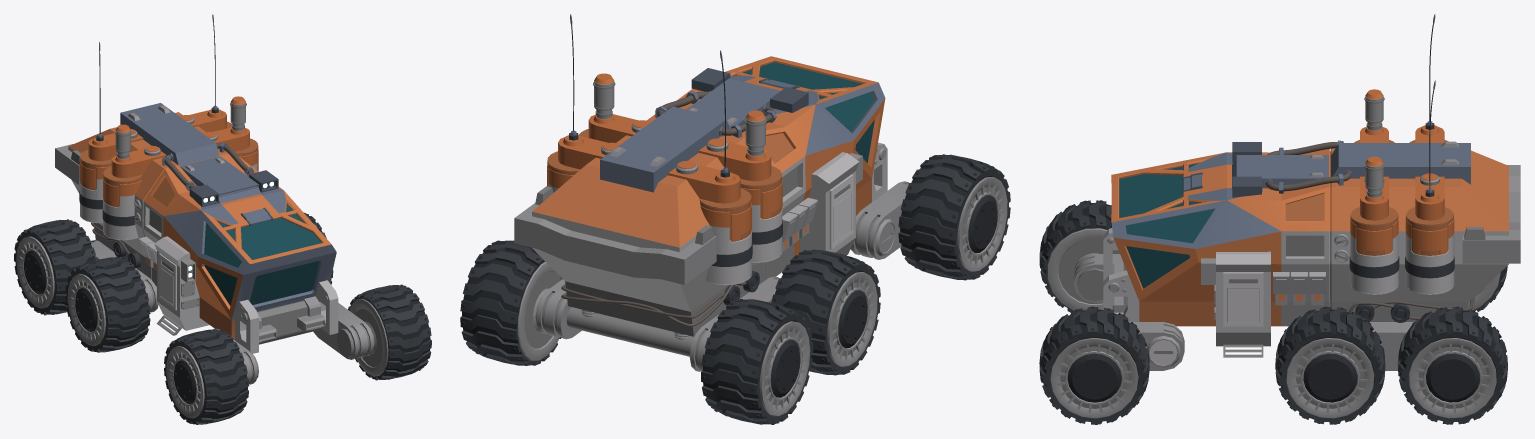
Rendered from rover.gltf.
3 views of the same model, side by side, from view 1: azimuth 30°, elevation 25°; view 2: azimuth 150°, elevation 25°; view 3: azimuth 270°, elevation 25° (orthographic). The views are drawn at different scales.
Visible parts, largest first — view 1: Cube.045, Cylinder.248, Cylinder.230, Cylinder.122, Cylinder.266, Cube.040, Cube.042, Cube.049, Cylinder.127, Cube.039, Cylinder.173, Cylinder.134 (+20 smaller); view 2: Cube.045, Cylinder.266, Cylinder.230, Cylinder.202, Cube.041, Cylinder.248, Cube.040, Cube.039, Cylinder.137, Cylinder.124, Cylinder.135, Cylinder.134 (+24 smaller); view 3: Cube.045, Cylinder.130, Cylinder.122, Cylinder.202, Cube.040, Cylinder.177, Cylinder.204, Cylinder.174, Cube.039, Cylinder.231, Cube.041, Cube.042 (+29 smaller).
Part boxes in pixels (x1,y1,x2,y2): Cube.045: (68,112,336,340); Cylinder.248: (65,257,150,352); Cylinder.230: (164,329,249,424); Cylinder.122: (348,285,431,379); Cylinder.266: (14,220,95,314); Cube.040: (120,103,219,165); Cube.042: (180,156,260,203); Cube.049: (235,280,338,353); Cylinder.127: (212,303,373,384); Cube.039: (154,224,316,330); Cylinder.173: (349,298,388,376); Cylinder.134: (111,127,249,178); Cube.045: (532,56,885,336); Cylinder.266: (701,299,813,424); Cylinder.230: (898,154,1010,279); Cylinder.202: (460,240,561,365); Cube.041: (514,203,716,284); Cylinder.248: (771,250,880,374); Cube.040: (600,106,729,192); Cube.039: (800,152,859,255); Cylinder.137: (536,276,778,371); Cylinder.124: (566,307,694,356); Cylinder.135: (558,136,740,203); Cylinder.134: (588,114,771,181); Cube.045: (1111,148,1508,326); Cylinder.130: (1275,307,1385,424); Cylinder.122: (1039,307,1149,424); Cylinder.202: (1397,307,1507,424); Cube.040: (1331,143,1470,184); Cylinder.177: (1286,338,1374,418); Cylinder.204: (1409,338,1496,418); Cylinder.174: (1050,338,1138,418); Cube.039: (1216,251,1270,346); Cylinder.231: (1047,228,1119,310); Cube.041: (1462,165,1520,263); Cube.042: (1232,155,1328,188).
Size of the model in its own units: 570 by 620 by 856.
